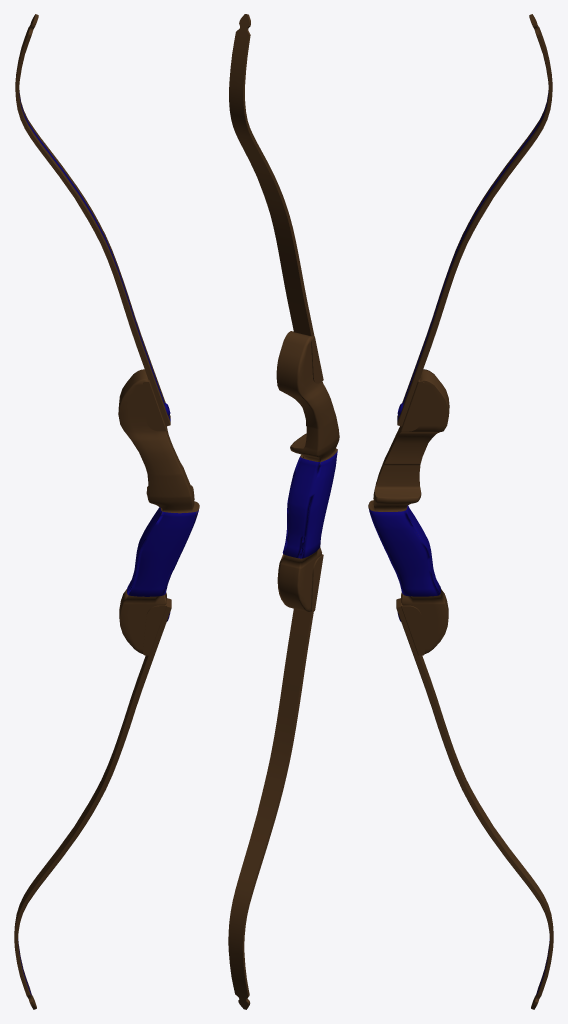
Rendered from Bow.fbx.
The picture shows the model from 3 angles, left to right: view 1: azimuth 90°, elevation 25°; view 2: azimuth 150°, elevation 25°; view 3: azimuth 270°, elevation 25°; orthographic projection.
Parts seen in each view (by area): view 1: bow; view 2: bow; view 3: bow.
Part boxes in pixels (box(x1,y1,x2,y2)): bow: box(14, 14, 199, 1009); bow: box(228, 14, 339, 1009); bow: box(368, 14, 553, 1009).
Size of the model in its own units: 463 by 13076 by 2209.
